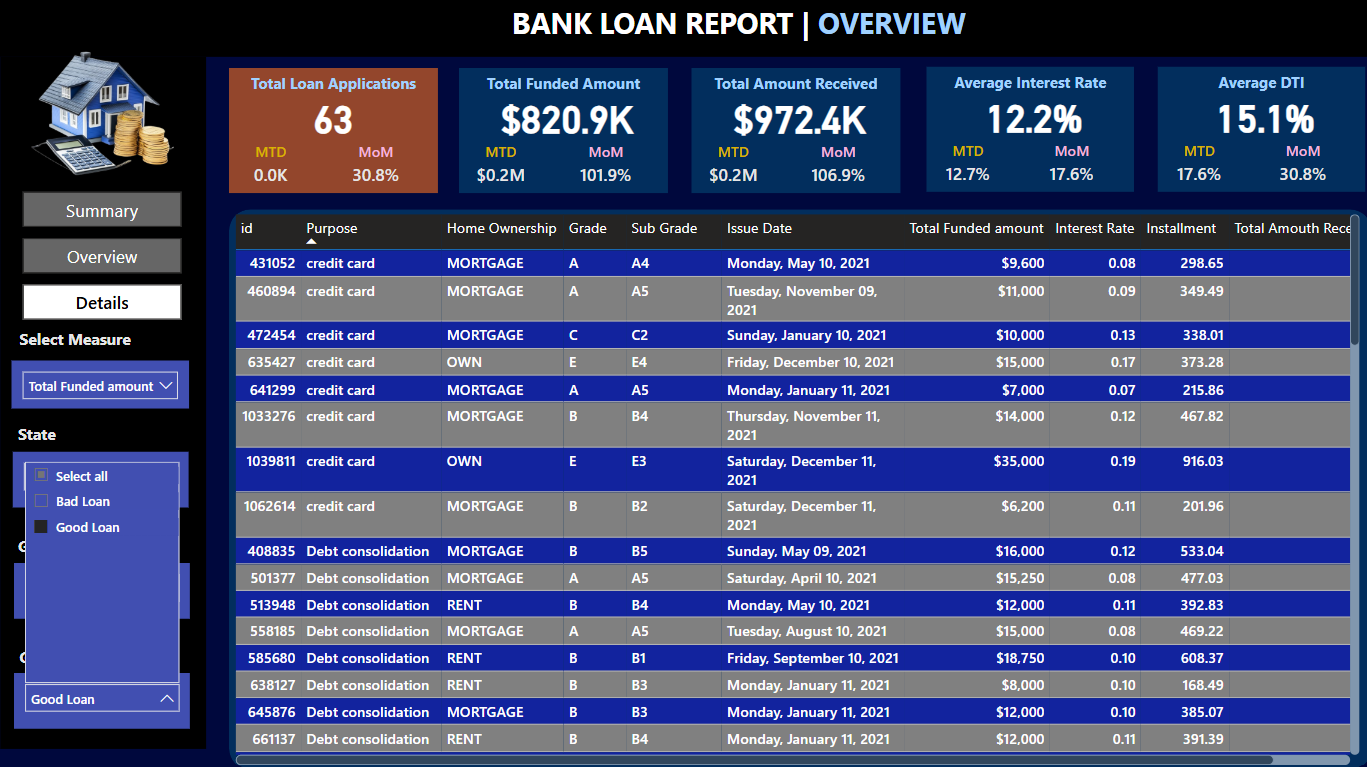

The page's visual inventory and layout, read from the dashboard file:
{"tool":"powerbi","page":{"name":"Details","canvas":[1280,720],"ordinal":2},"visuals":[{"type":"shape","box":[865,64,193.5,116.6],"z":0,"group":"g4"},{"type":"shape","box":[1081,64,193.5,116.6],"z":0,"group":"g5"},{"type":"shape","box":[214.3,65.4,194.9,116.6],"z":0,"group":"g1"},{"type":"shape","box":[428.9,65.4,194.9,116.6],"z":0,"group":"g2"},{"type":"shape","box":[646.3,65.4,194.9,116.6],"z":0,"group":"g3"},{"type":"shape","box":[214.2,196.9,1065.8,523.1],"z":0},{"type":"shape","box":[1.4,54.3,192,645.6],"z":1000},{"type":"card","fields":{"Values":["bank_loan_data.Average Interest Rate"]},"box":[868.3,64.2,193.5,91.9],"z":1000,"group":"g4"},{"type":"card","fields":{"Values":["bank_loan_data.Average DTI"]},"box":[1084.3,64.2,193.5,91.9],"z":1000,"group":"g5"},{"type":"card","fields":{"Values":["bank_loan_data.Total loan application"]},"box":[214.3,65.4,194.9,91.9],"z":1000,"group":"g1"},{"type":"card","fields":{"Values":["bank_loan_data.Total Funded amount"]},"box":[432.2,65.6,194.9,91.9],"z":1000,"group":"g2"},{"type":"card","fields":{"Values":["bank_loan_data.Total Amouth Received"]},"box":[649.6,65.6,194.9,91.9],"z":1000,"group":"g3"},{"type":"shape","box":[0,0,1280.3,54.9],"z":2000},{"type":"textbox","box":[865,64,193.5,34.3],"z":2000,"group":"g4"},{"type":"textbox","box":[1081,64,193.5,34.3],"z":2000,"group":"g5"},{"type":"textbox","box":[214.3,65.4,194.9,34.3],"z":2000,"group":"g1"},{"type":"textbox","box":[428.9,65.4,194.9,34.3],"z":2000,"group":"g2"},{"type":"textbox","box":[646.3,65.4,194.9,34.3],"z":2000,"group":"g3"},{"type":"textbox","box":[473.4,0,470.7,64.5],"z":3000},{"type":"card","title":"MTD","fields":{"Values":["bank_loan_data.MTD Average Interest Rate"]},"box":[865,132.6,77.7,48],"z":3000,"group":"g4"},{"type":"card","title":"MTD","fields":{"Values":["bank_loan_data.MTD Average DTI"]},"box":[1081,132.6,77.7,48],"z":3000,"group":"g5"},{"type":"card","title":"MTD","fields":{"Values":["bank_loan_data.MTD Loan Application"]},"box":[214.3,134,78.2,48],"z":3000,"group":"g1"},{"type":"card","title":"MTD","fields":{"Values":["bank_loan_data.MTD Funded Amount"]},"box":[428.9,134,78.2,48],"z":3000,"group":"g2"},{"type":"card","title":"MTD","fields":{"Values":["bank_loan_data.MTD Total Amount received"]},"box":[646.3,134,78.2,48],"z":3000,"group":"g3"},{"type":"group","id":"g1","title":"Group 1","box":[214.3,65.4,194.8,116.9],"z":4000},{"type":"card","title":"MoM","fields":{"Values":["bank_loan_data.MoM Average Interest rate"]},"box":[961.8,132.6,77.7,48],"z":4000,"group":"g4"},{"type":"card","title":"MoM","fields":{"Values":["bank_loan_data.MoM Average DTI"]},"box":[1177.8,132.6,77.7,48],"z":4000,"group":"g5"},{"type":"card","title":"MoM","fields":{"Values":["bank_loan_data.MoM Loan Application"]},"box":[311.7,134,78.2,48],"z":4000,"group":"g1"},{"type":"card","title":"MoM","fields":{"Values":["bank_loan_data.MoM Total Funded Amount"]},"box":[526.3,134,78.2,48],"z":4000,"group":"g2"},{"type":"card","title":"MoM","fields":{"Values":["bank_loan_data.MoM Total Amount received"]},"box":[743.7,134,78.2,48],"z":4000,"group":"g3"},{"type":"group","id":"g2","title":"Group 1","box":[428.9,65.4,197.6,116.9],"z":5000},{"type":"group","id":"g3","title":"Group 1","box":[646.3,65.4,199,116.9],"z":6000},{"type":"group","id":"g4","title":"Group 1","box":[865,64,196.2,116.9],"z":7000},{"type":"group","id":"g5","title":"Group 1","box":[1081,64,196.2,116.9],"z":8000},{"type":"slicer","fields":{"Values":["bank_loan_data.address_state"]},"box":[13.1,423.3,164.4,52.4],"z":9000},{"type":"textbox","box":[13.1,391.3,65.5,30.5],"z":10000},{"type":"slicer","fields":{"Values":["bank_loan_data.grade"]},"box":[14.5,526.5,164.4,52.4],"z":11000},{"type":"textbox","box":[13.1,496,65.5,30.5],"z":12000},{"type":"slicer","fields":{"Values":["bank_loan_data.Good Vs Bad Loan"]},"box":[14.5,629.8,164.4,52.4],"z":13000},{"type":"textbox","box":[13.5,599.4,155.1,30.8],"z":14000},{"type":"slicer","fields":{"Values":["Select Measure.Select Measure"]},"box":[11.1,338.1,165.6,44.5],"z":15000},{"type":"textbox","box":[13.9,303.3,123.8,30.6],"z":16000},{"type":"tableEx","fields":{"Values":["bank_loan_data.id","bank_loan_data.purpose","bank_loan_data.home_ownership","bank_loan_data.grade","bank_loan_data.sub_grade","bank_loan_data.issue_date","bank_loan_data.Total Funded amount","Sum(bank_loan_data.int_rate)","Sum(bank_loan_data.installment)","bank_loan_data.Total Amouth Received"]},"box":[214.2,196.9,1059.7,523.1],"z":17000},{"type":"pageNavigator","box":[22.2,180.9,148.9,121.8],"z":17001},{"type":"image","box":[1.2,27.1,192,150.2],"z":17002}]}

Visuals, with their boxes in screenshot pixels (x1, y1, x2, y2), scaled from the page's 1280x720 canvas onto the 1367x767 screenshot:
shape: 924,68,1130,192
shape: 1154,68,1361,192
shape: 229,70,437,194
shape: 458,70,666,194
shape: 690,70,898,194
shape: 229,210,1366,766
shape: 1,58,207,746
card - bank_loan_data.Average Interest Rate: 927,68,1134,166
card - bank_loan_data.Average DTI: 1158,68,1365,166
card - bank_loan_data.Total loan application: 229,70,437,168
card - bank_loan_data.Total Funded amount: 462,70,670,168
card - bank_loan_data.Total Amouth Received: 694,70,902,168
shape: 0,0,1366,58
textbox: 924,68,1130,105
textbox: 1154,68,1361,105
textbox: 229,70,437,106
textbox: 458,70,666,106
textbox: 690,70,898,106
textbox: 506,0,1008,69
"MTD" card: 924,141,1007,192
"MTD" card: 1154,141,1237,192
"MTD" card: 229,143,312,194
"MTD" card: 458,143,542,194
"MTD" card: 690,143,774,194
"Group 1" group: 229,70,437,194
"MoM" card: 1027,141,1110,192
"MoM" card: 1258,141,1341,192
"MoM" card: 333,143,416,194
"MoM" card: 562,143,646,194
"MoM" card: 794,143,878,194
"Group 1" group: 458,70,669,194
"Group 1" group: 690,70,903,194
"Group 1" group: 924,68,1133,193
"Group 1" group: 1154,68,1364,193
slicer - bank_loan_data.address_state: 14,451,190,507
textbox: 14,417,84,449
slicer - bank_loan_data.grade: 15,561,191,617
textbox: 14,528,84,561
slicer - bank_loan_data.Good Vs Bad Loan: 15,671,191,727
textbox: 14,639,180,671
slicer - Select Measure.Select Measure: 12,360,189,408
textbox: 15,323,147,356
tableEx - bank_loan_data.id x bank_loan_data.purpose: 229,210,1360,766
pageNavigator: 24,193,183,322
image: 1,29,206,189
